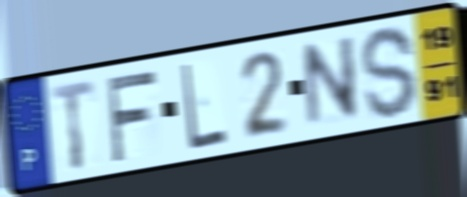2: (237, 49, 291, 142)
F: (103, 66, 159, 166)
L: (179, 60, 230, 154)
N: (300, 32, 362, 133)
S: (358, 23, 419, 123)
T: (48, 76, 98, 173)
